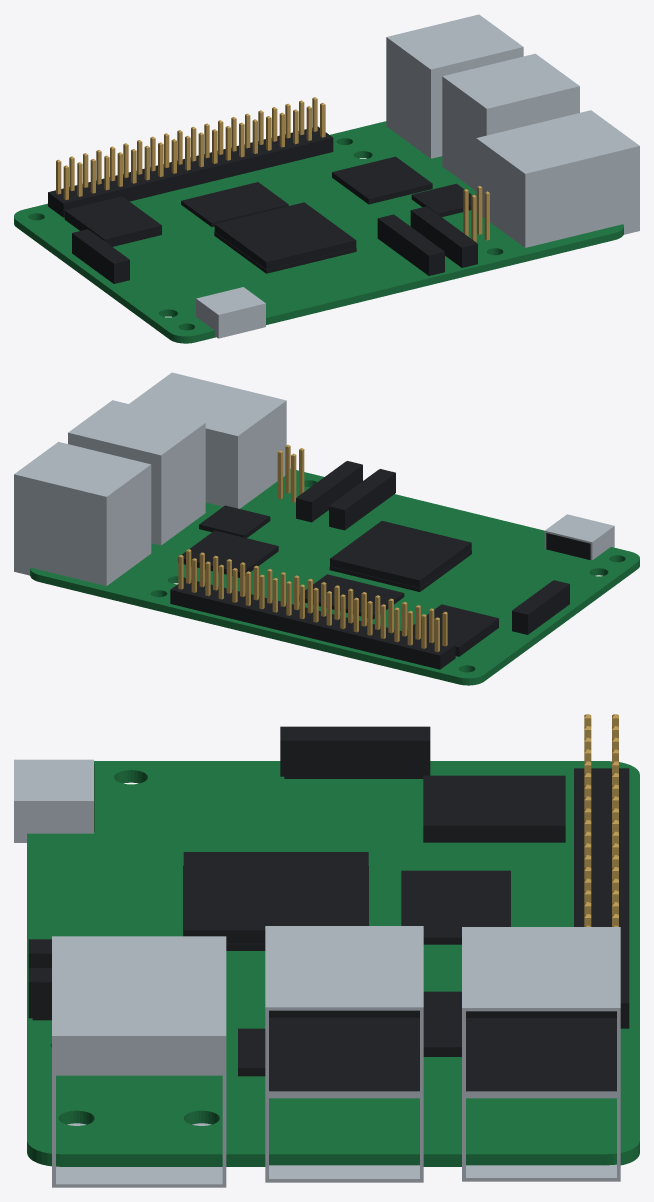
Rendered from raspberry_pi_5_4gb.glb.
3 renders of one model, top to bottom at view 1: azimuth 30°, elevation 25°; view 2: azimuth 150°, elevation 25°; view 3: azimuth 270°, elevation 25°, orthographic. The views are drawn at different scales.
Visible parts, largest first — view 1: part_raspberry_pi_5_4gb__steel, part_raspberry_pi_5_4gb__pcb, part_raspberry_pi_5_4gb__black_polymer, part_raspberry_pi_5_4gb__brass; view 2: part_raspberry_pi_5_4gb__steel, part_raspberry_pi_5_4gb__pcb, part_raspberry_pi_5_4gb__black_polymer, part_raspberry_pi_5_4gb__brass; view 3: part_raspberry_pi_5_4gb__pcb, part_raspberry_pi_5_4gb__steel, part_raspberry_pi_5_4gb__black_polymer, part_raspberry_pi_5_4gb__brass.
Boxes of the visible parts, x1,y1,x2,y2 form: part_raspberry_pi_5_4gb__steel: (196, 14, 639, 338); part_raspberry_pi_5_4gb__pcb: (14, 121, 623, 343); part_raspberry_pi_5_4gb__black_polymer: (48, 126, 477, 283); part_raspberry_pi_5_4gb__brass: (56, 97, 489, 242); part_raspberry_pi_5_4gb__steel: (14, 372, 614, 585); part_raspberry_pi_5_4gb__pcb: (30, 469, 639, 685); part_raspberry_pi_5_4gb__black_polymer: (170, 461, 590, 669); part_raspberry_pi_5_4gb__brass: (178, 444, 447, 651); part_raspberry_pi_5_4gb__pcb: (27, 761, 639, 1166); part_raspberry_pi_5_4gb__steel: (14, 759, 620, 1187); part_raspberry_pi_5_4gb__black_polymer: (28, 726, 629, 1076); part_raspberry_pi_5_4gb__brass: (584, 714, 618, 926).
Bounding box in the file's own units: 0.0881 × 0.0189 × 0.0572.
